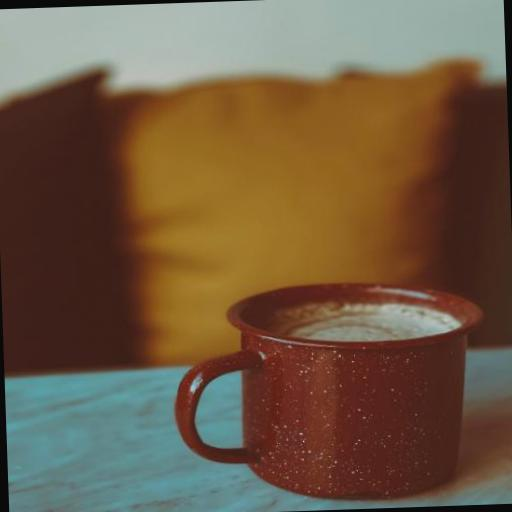cup: (169, 278, 491, 508)
